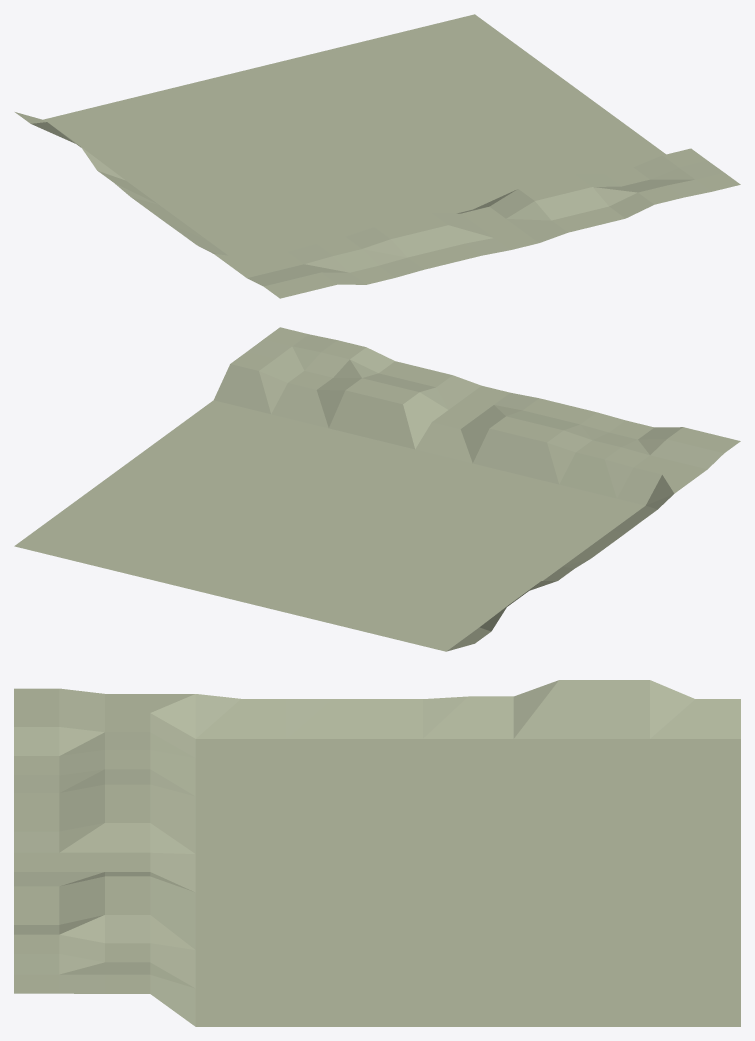
3 renders of one model, top to bottom at view 1: azimuth 30°, elevation 25°; view 2: azimuth 150°, elevation 25°; view 3: azimuth 270°, elevation 25°, orthographic. The views are drawn at different scales.
Size of the model in its own units: 32 by 1.93 by 32.
